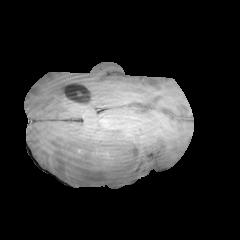glioma: (51, 124, 158, 188)
